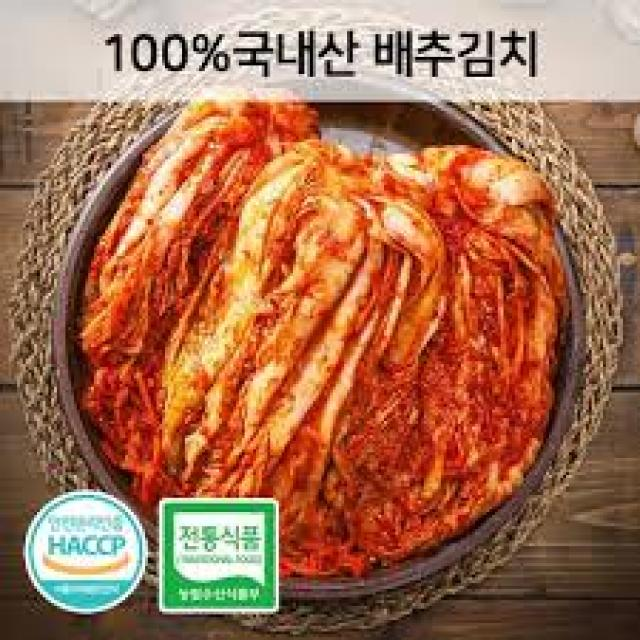kimchi: (179, 171, 475, 435)
